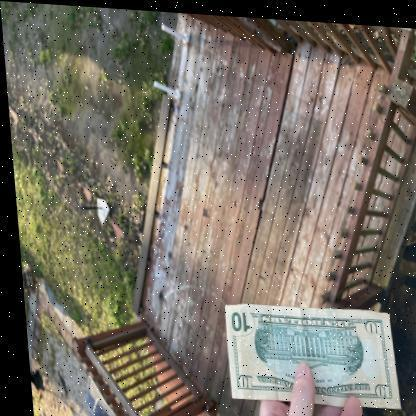ten-back: (220, 298, 393, 403)
